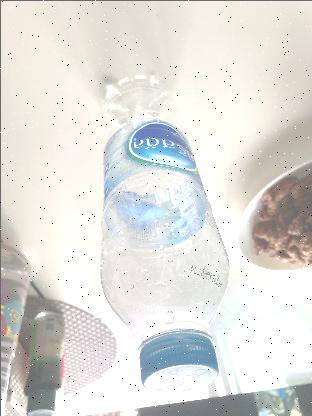Plastic Bottle: (100, 69, 232, 397)
